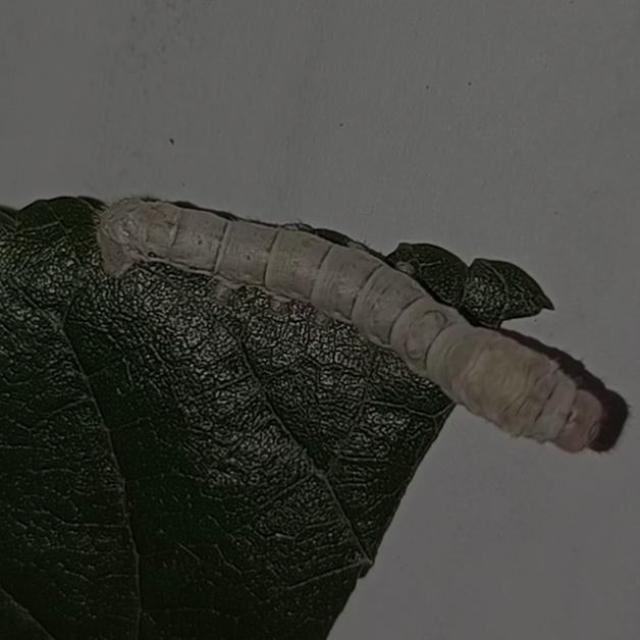Healthy: (90, 164, 616, 506)
